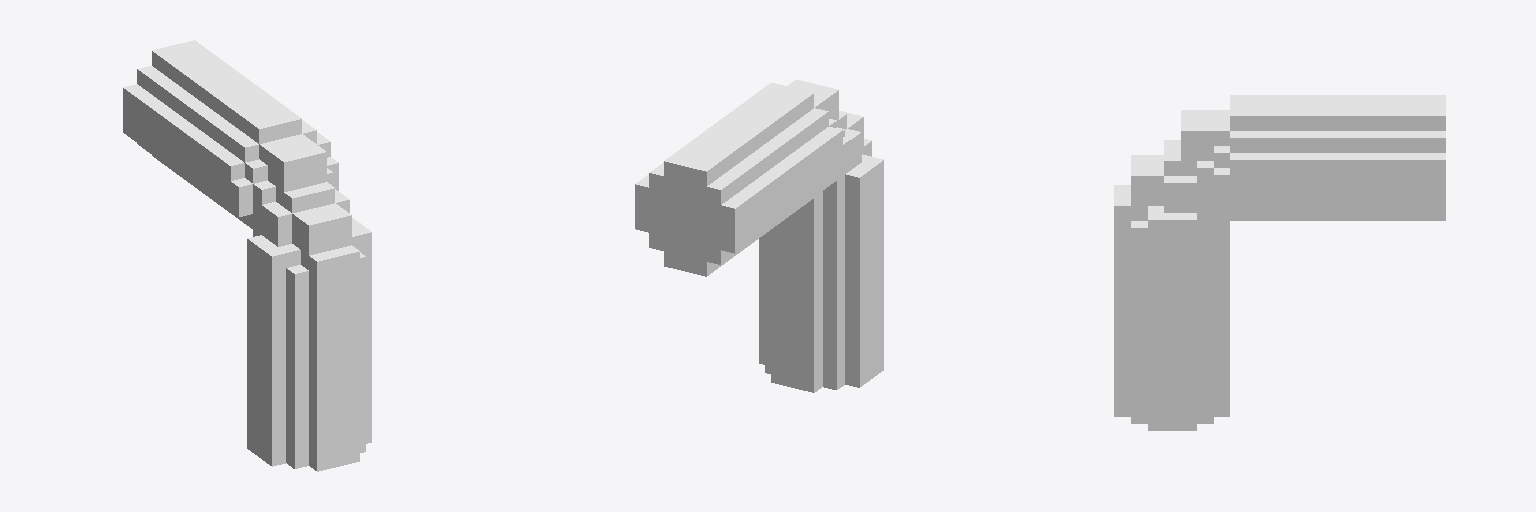
Rendered from Pipe_Line.obj.
3 views of the same model, side by side, from view 1: azimuth 30°, elevation 25°; view 2: azimuth 150°, elevation 25°; view 3: azimuth 270°, elevation 25° (orthographic).
Parts seen in each view (by area): view 1: object 1; view 2: object 1; view 3: object 1.
Part boxes in pixels (bbox=[...]): object 1: bbox=[123, 40, 371, 471]; object 1: bbox=[635, 79, 883, 392]; object 1: bbox=[1114, 95, 1445, 430].
Bounding box in the file's own units: 0.7 × 2 × 2.